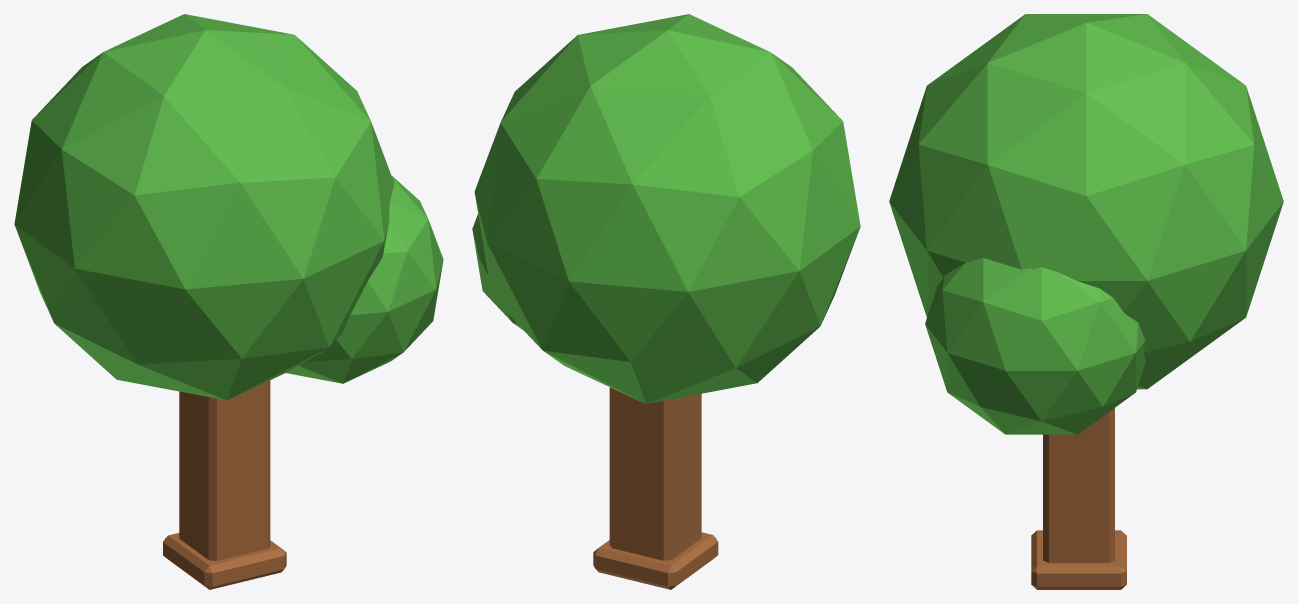
Rendered from tree.glb.
3 renders of one model, left to right at view 1: azimuth 30°, elevation 25°; view 2: azimuth 150°, elevation 25°; view 3: azimuth 270°, elevation 25°, orthographic.
Parts seen in each view (by area): view 1: tree; view 2: tree; view 3: tree.
Boxes of the visible parts, x1=… form: tree: x1=14, y1=14, x2=443, y2=589; tree: x1=472, y1=14, x2=860, y2=589; tree: x1=889, y1=14, x2=1283, y2=589.
Bounding box in the file's own units: 2.8 × 4 × 2.64.
